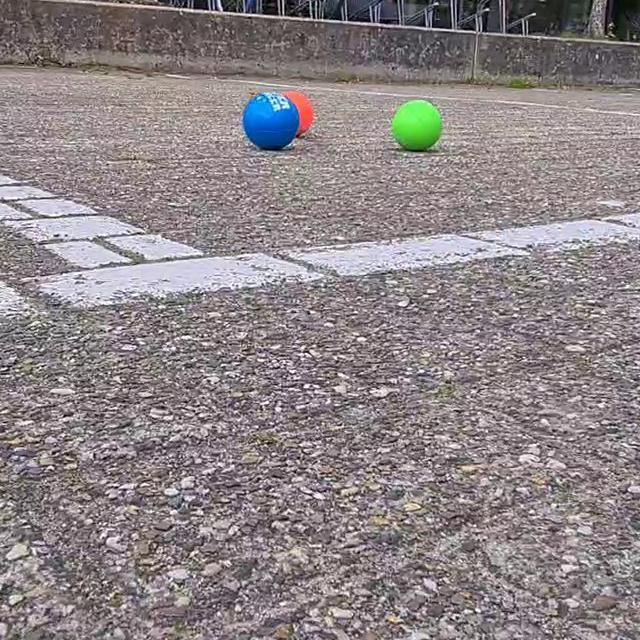ball: (239, 92, 305, 151), (392, 94, 446, 159)
